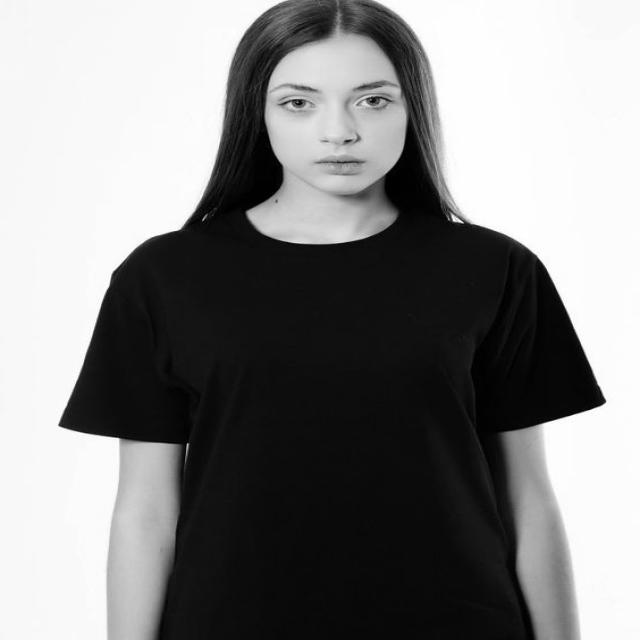shoulder: (108, 218, 568, 342)
